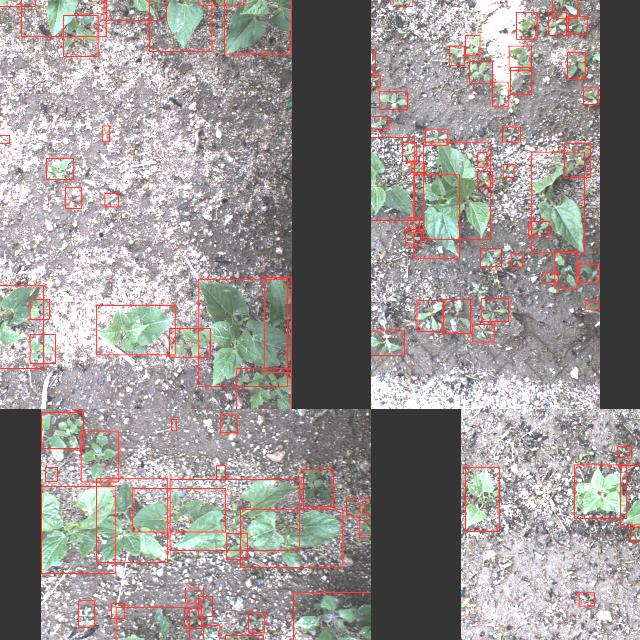crop: (198, 278, 288, 386), (169, 478, 299, 550), (422, 141, 490, 239), (40, 486, 114, 572), (95, 478, 167, 562), (240, 508, 342, 566), (532, 151, 584, 251), (132, 487, 225, 531), (96, 304, 174, 354), (413, 175, 459, 258), (224, 0, 291, 53), (0, 284, 42, 367), (371, 136, 413, 219), (148, 0, 211, 51), (20, 0, 105, 36), (574, 464, 626, 518), (264, 276, 292, 372), (464, 466, 498, 532), (619, 465, 640, 527), (102, 0, 165, 20)
weed: (293, 591, 371, 640), (115, 607, 189, 640), (236, 367, 291, 409), (80, 431, 118, 481), (40, 412, 82, 448), (62, 15, 98, 56), (168, 328, 210, 357), (303, 468, 333, 506), (444, 299, 471, 333), (564, 143, 590, 177), (555, 250, 577, 288), (371, 329, 403, 354), (416, 300, 442, 330), (30, 333, 54, 362), (511, 66, 532, 94), (226, 532, 247, 560), (508, 46, 532, 70), (46, 157, 72, 179), (482, 298, 508, 320), (468, 61, 492, 83), (516, 12, 536, 38), (379, 91, 407, 109), (567, 52, 585, 78), (552, 0, 577, 17), (78, 600, 94, 626), (29, 299, 49, 319), (578, 263, 600, 281), (548, 12, 566, 34), (492, 81, 508, 105), (481, 248, 502, 266), (472, 323, 493, 341), (568, 15, 588, 33), (65, 186, 81, 208), (528, 220, 550, 236), (183, 608, 200, 628), (424, 130, 448, 144), (464, 34, 480, 54), (448, 45, 464, 65), (248, 612, 264, 632), (220, 414, 237, 432), (502, 126, 520, 142), (198, 596, 212, 616), (202, 624, 219, 640), (476, 171, 492, 187), (584, 86, 598, 104), (402, 142, 416, 160), (185, 588, 203, 602), (346, 498, 360, 516), (406, 228, 420, 244), (110, 602, 124, 618), (578, 592, 594, 606), (358, 519, 371, 536), (371, 116, 388, 128), (104, 192, 118, 206), (629, 523, 640, 540), (44, 467, 56, 481), (542, 271, 558, 281), (408, 216, 418, 232), (511, 253, 522, 267), (617, 447, 631, 458), (502, 164, 514, 176), (410, 162, 424, 172), (101, 125, 109, 141), (216, 464, 224, 480), (478, 152, 487, 166), (585, 300, 599, 308), (365, 497, 371, 514), (392, 0, 412, 5), (371, 74, 379, 85), (0, 134, 8, 143), (170, 418, 176, 429), (371, 51, 374, 72)
